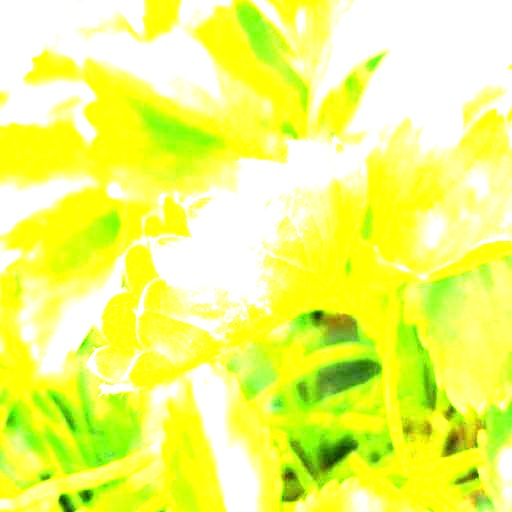Powdery Mildew Leaf: (87, 137, 370, 394)
